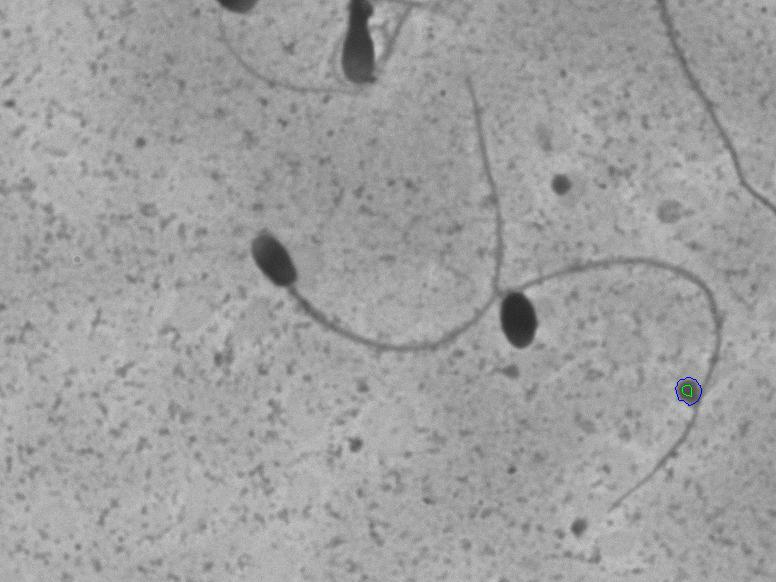Abnormal: (492, 227, 743, 524)
Normal: (227, 16, 525, 376)
